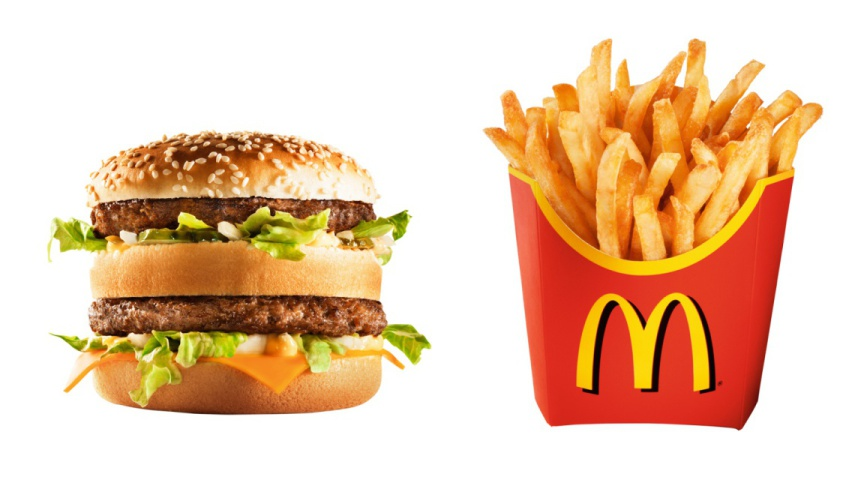mcdonalds: (566, 282, 723, 401)
